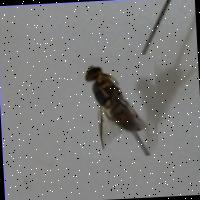Oriental-fruit-fly: (77, 53, 159, 158)
